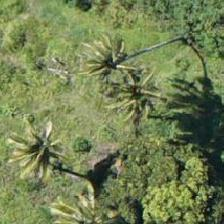coconut_tree: (65, 11, 155, 101), (84, 30, 174, 120), (0, 104, 81, 194), (48, 169, 138, 223)
